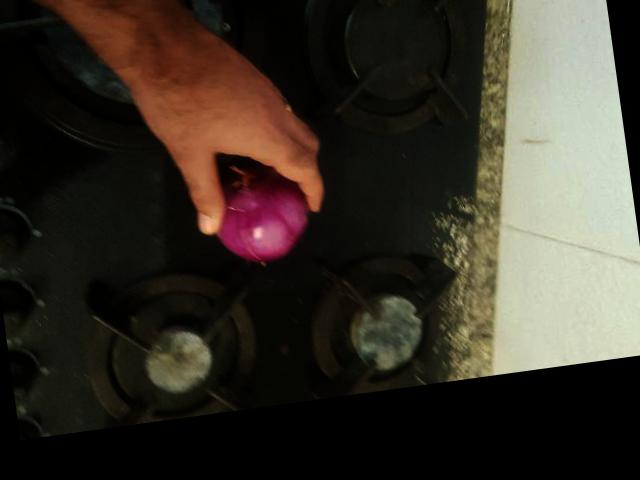onion: (206, 161, 316, 273)
